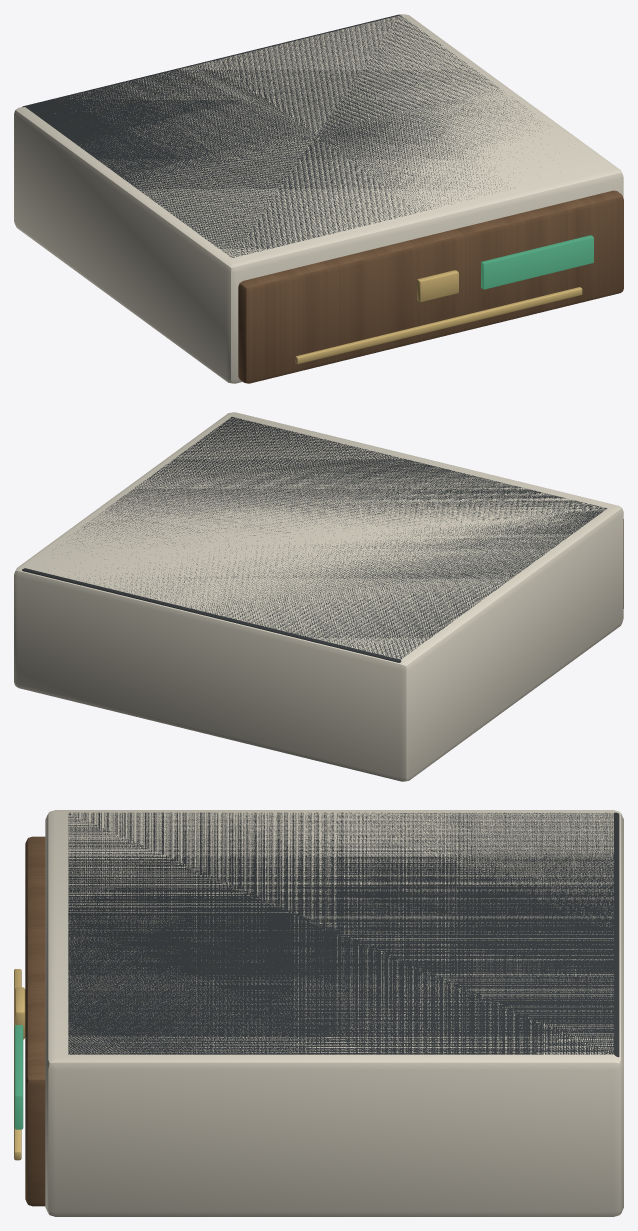
File: cash_drawer_country_club.glb
The picture shows the model from 3 angles, top to bottom: view 1: azimuth 30°, elevation 25°; view 2: azimuth 150°, elevation 25°; view 3: azimuth 270°, elevation 25°; orthographic projection. The views are drawn at different scales.
Visible parts, largest first — view 1: CashDrawer_Housing, CashDrawer_HousingTop, CashDrawer_Front, CashDrawer_CountDisplay, CashDrawer_BrassRail, CashDrawer_Latch; view 2: CashDrawer_Housing, CashDrawer_HousingTop; view 3: CashDrawer_Housing, CashDrawer_HousingTop, CashDrawer_Front, CashDrawer_CountDisplay, CashDrawer_BrassRail.
Boxes of the visible parts, bbox=[...] form: CashDrawer_Housing: bbox=[14, 14, 623, 383]; CashDrawer_HousingTop: bbox=[22, 14, 547, 257]; CashDrawer_Front: bbox=[238, 190, 623, 383]; CashDrawer_CountDisplay: bbox=[481, 235, 593, 289]; CashDrawer_BrassRail: bbox=[295, 287, 582, 364]; CashDrawer_Latch: bbox=[417, 270, 458, 302]; CashDrawer_Housing: bbox=[14, 412, 623, 781]; CashDrawer_HousingTop: bbox=[22, 417, 607, 662]; CashDrawer_Housing: bbox=[45, 810, 623, 1216]; CashDrawer_HousingTop: bbox=[68, 812, 619, 1057]; CashDrawer_Front: bbox=[25, 836, 45, 1206]; CashDrawer_CountDisplay: bbox=[14, 1025, 23, 1129]; CashDrawer_BrassRail: bbox=[14, 969, 21, 1160].
Size of what is drawn, in the model's own units: 0.48 by 0.14 by 0.485.
7 materials, 1 textured.
